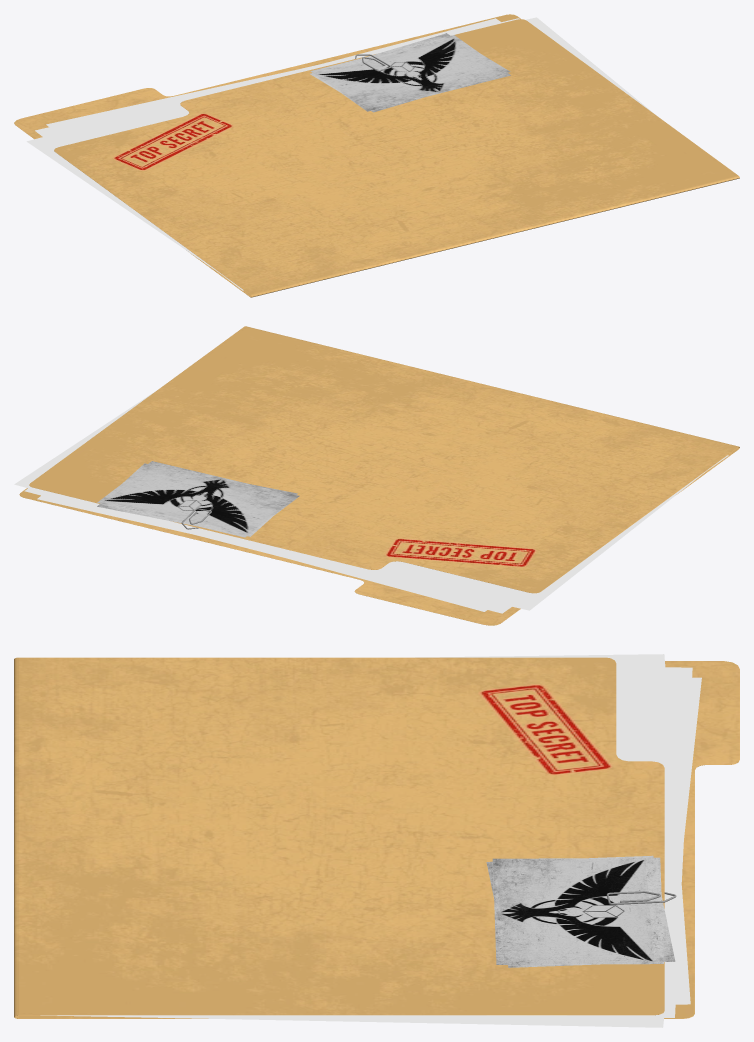
File: worm_dossier_m.e.g_game_ready.glb
The picture shows the model from 3 angles, top to bottom: view 1: azimuth 30°, elevation 25°; view 2: azimuth 150°, elevation 25°; view 3: azimuth 270°, elevation 25°; orthographic projection. The views are drawn at different scales.
Parts seen in each view (by area): view 1: SM_Dossier_0, SM_Note_3, SM_Paper_2; view 2: SM_Dossier_0, SM_Paper_2, SM_Note_3; view 3: SM_Dossier_0, SM_Note_3, SM_Paper_2.
Boxes of the visible parts, box(x1,y1,x2,y2) form: SM_Dossier_0: box(14, 14, 739, 297); SM_Note_3: box(310, 33, 510, 112); SM_Paper_2: box(26, 17, 657, 290); SM_Dossier_0: box(19, 326, 739, 625); SM_Paper_2: box(14, 390, 728, 613); SM_Note_3: box(97, 461, 299, 537); SM_Dossier_0: box(14, 657, 739, 1018); SM_Note_3: box(486, 855, 675, 967); SM_Paper_2: box(40, 654, 701, 1027).
Size of the model in its own units: 0.356 by 0.00282 by 0.2923.
4 materials, 2 textured.
